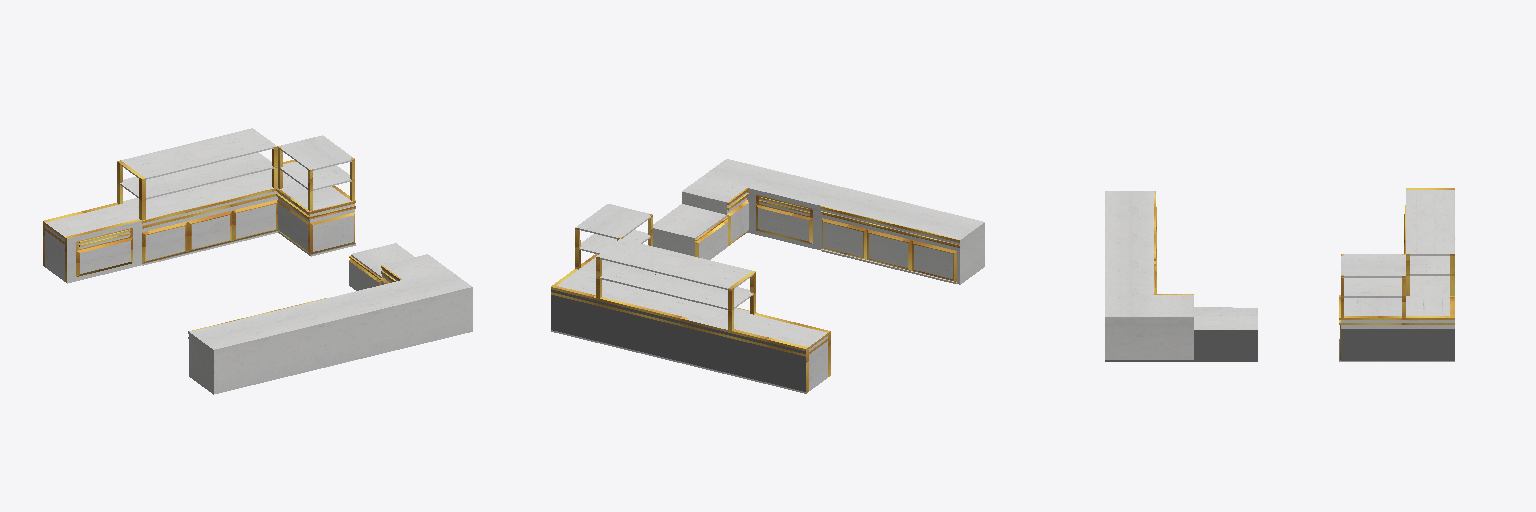
3 renders of one model, left to right at view 1: azimuth 30°, elevation 25°; view 2: azimuth 150°, elevation 25°; view 3: azimuth 270°, elevation 25°, orthographic.
Visible parts, largest first — view 1: polySurface8; view 2: polySurface8; view 3: polySurface8.
Part boxes in pixels (x1,y1,x2,y2): polySurface8: (43, 128, 472, 394); polySurface8: (551, 159, 984, 393); polySurface8: (1105, 188, 1454, 361).
Size of the model in its own units: 31.62 by 10.02 by 37.
Materials: 3 (2 with a texture image).